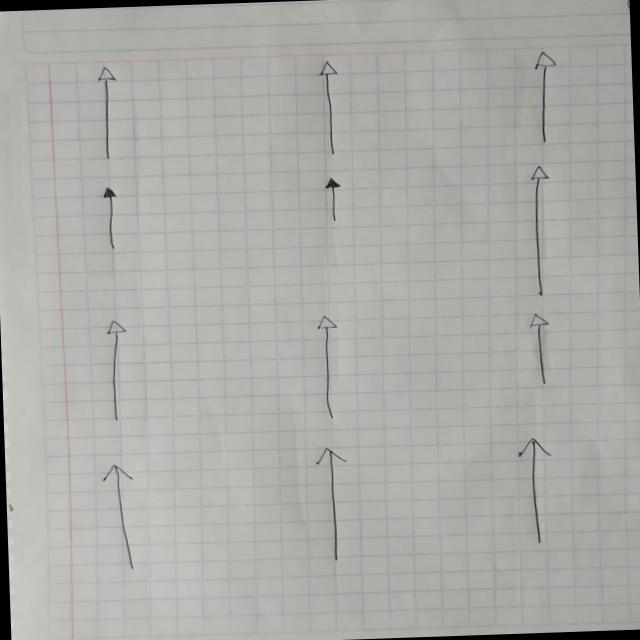arrow_line_up: (100, 462, 140, 572), (516, 436, 554, 546), (314, 446, 350, 562), (526, 165, 554, 298), (314, 314, 342, 420), (530, 49, 560, 144), (103, 319, 129, 422), (316, 59, 342, 154), (96, 66, 120, 160), (528, 312, 554, 388), (100, 187, 122, 249), (322, 176, 342, 226)
